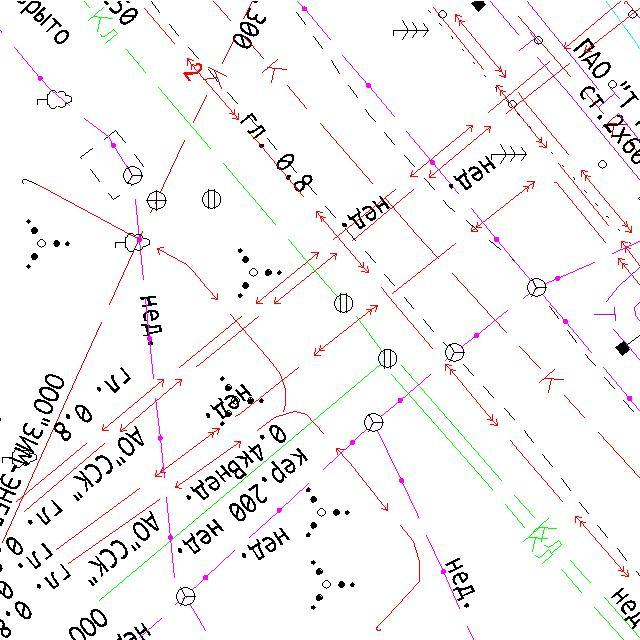bushes: (217, 373, 266, 429), (22, 217, 72, 271), (304, 486, 351, 542), (235, 246, 283, 300)
tree: (392, 18, 431, 42), (490, 142, 529, 166), (34, 88, 74, 110), (114, 231, 152, 254)
well: (523, 273, 550, 301), (172, 583, 198, 609), (199, 186, 224, 213), (331, 290, 356, 317), (144, 188, 169, 212), (376, 345, 399, 371), (361, 410, 385, 434), (121, 164, 144, 188), (443, 341, 466, 364)
